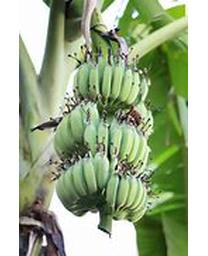banana: (51, 52, 155, 231)
